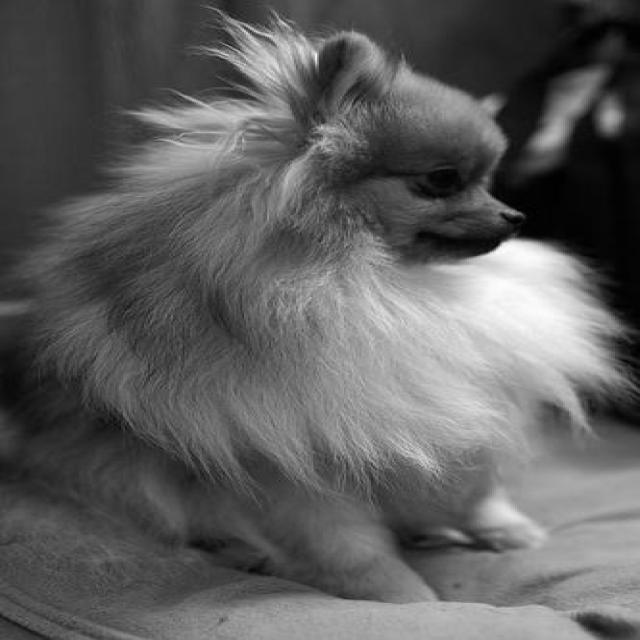sitting: (0, 3, 632, 605)
